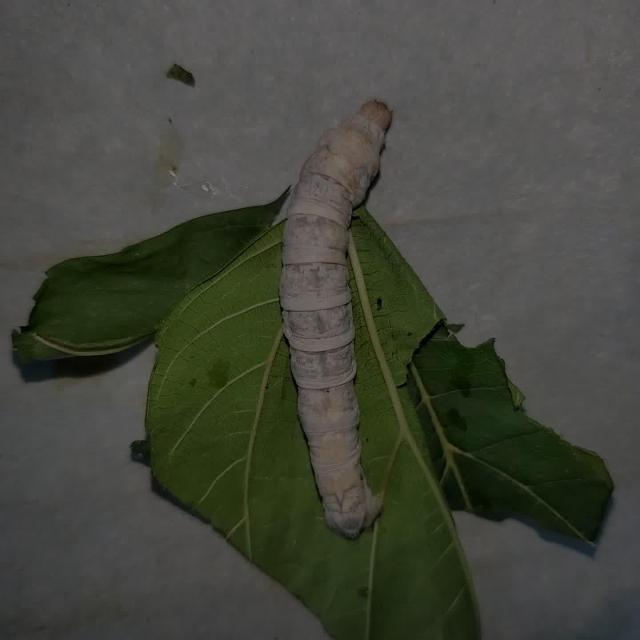Grasserie: (257, 80, 403, 549)
